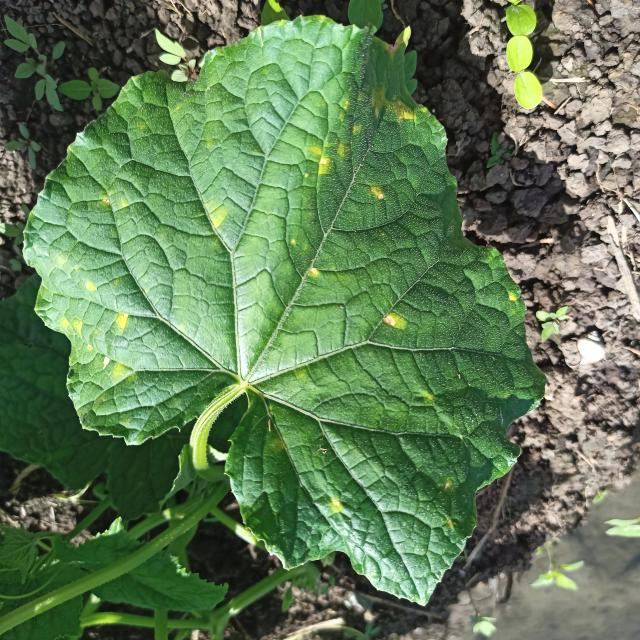disease_cucumber: (306, 90, 420, 200), (58, 274, 129, 378), (382, 310, 407, 332), (208, 202, 226, 232), (307, 265, 322, 277), (331, 498, 343, 510)
